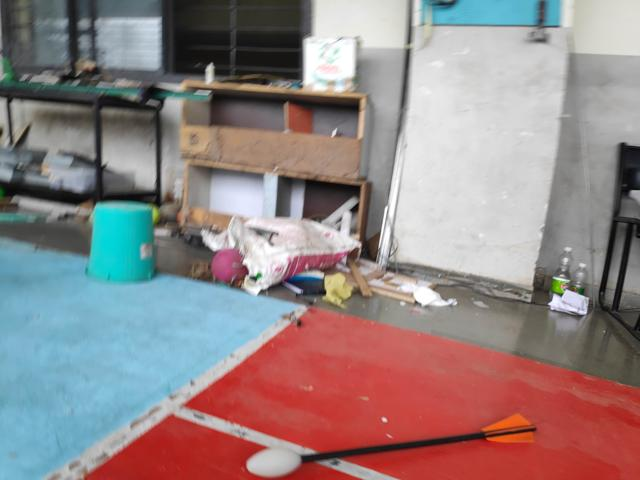Head: (243, 445, 306, 478)
Tail: (477, 412, 540, 445)
